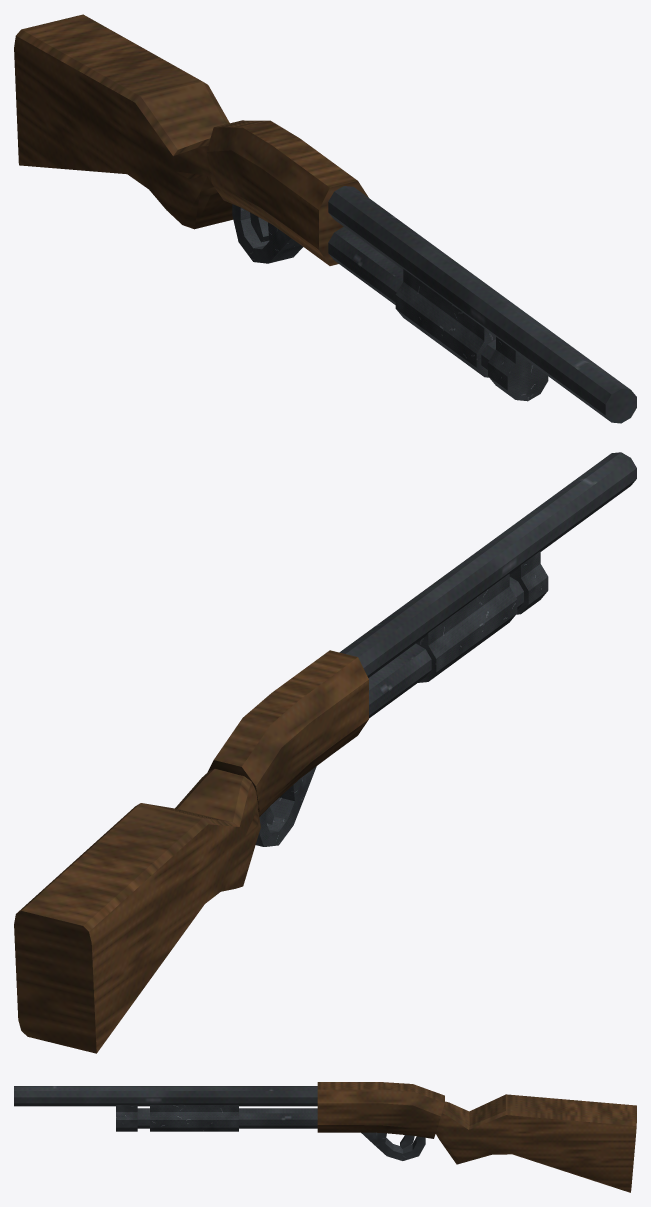
File: Shotgun.fbx
3 renders of one model, top to bottom at view 1: azimuth 30°, elevation 25°; view 2: azimuth 150°, elevation 25°; view 3: azimuth 270°, elevation 25°, orthographic. The views are drawn at different scales.
Parts seen in each view (by area): view 1: Gun, Gun.005, Gun.007, Gun.004, Gun.002, Gun.001; view 2: Gun, Gun.005, Gun.007, Gun.004, Gun.001, Gun.002; view 3: Gun, Gun.005, Gun.007, Gun.004, Gun.001, Gun.002.
Part boxes in pixels (left/top/right/bottom): Gun: left=14, top=14, right=368, bottom=265; Gun.005: left=328, top=186, right=636, bottom=423; Gun.007: left=395, top=269, right=495, bottom=377; Gun.004: left=328, top=227, right=495, bottom=372; Gun.002: left=488, top=337, right=548, bottom=401; Gun.001: left=232, top=204, right=302, bottom=263; Gun: left=14, top=650, right=368, bottom=1053; Gun.005: left=339, top=452, right=636, bottom=677; Gun.007: left=416, top=574, right=517, bottom=682; Gun.004: left=368, top=577, right=523, bottom=718; Gun.001: left=255, top=766, right=316, bottom=846; Gun.002: left=509, top=551, right=548, bottom=614; Gun: left=317, top=1082, right=636, bottom=1192; Gun.005: left=14, top=1086, right=317, bottom=1106; Gun.007: left=150, top=1105, right=238, bottom=1131; Gun.004: left=137, top=1108, right=317, bottom=1128; Gun.001: left=361, top=1132, right=425, bottom=1160; Gun.002: left=116, top=1105, right=137, bottom=1131.
Size of the model in its own units: 0.092 by 0.2047 by 1.17.
2 materials, 2 textured.
